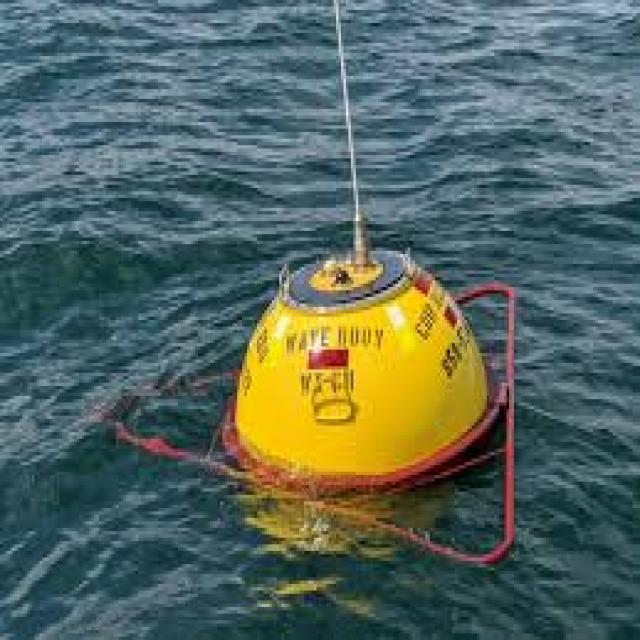buoy: (204, 176, 536, 557)
